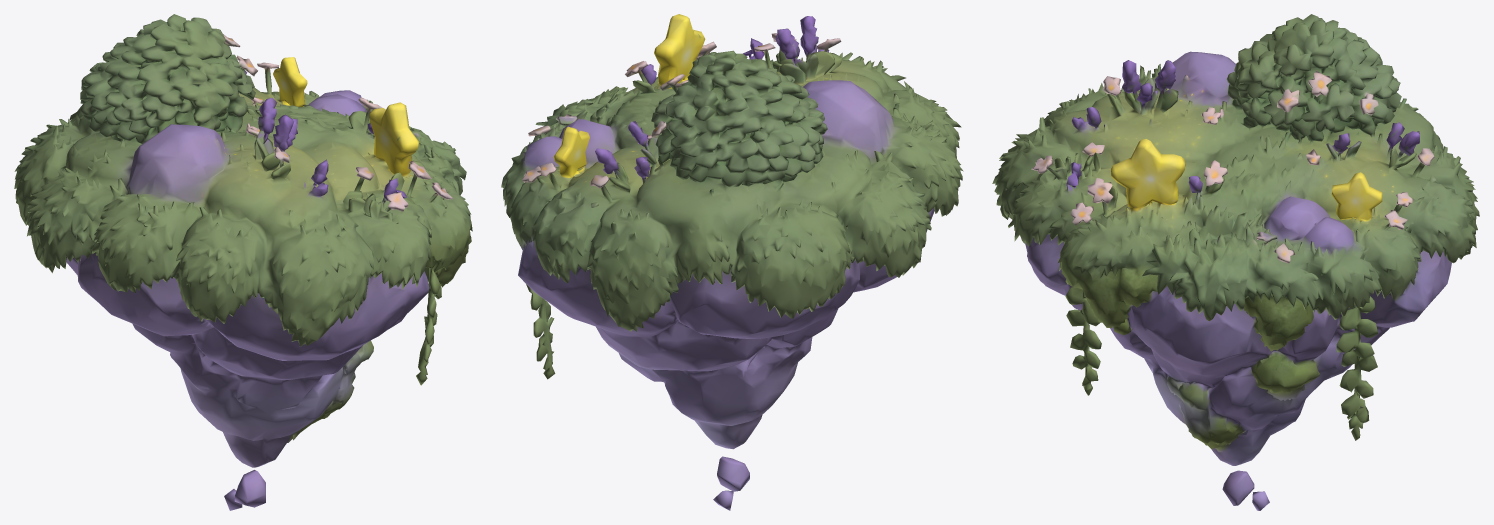
File: island_small.glb
The picture shows the model from 3 angles, left to right: view 1: azimuth 30°, elevation 25°; view 2: azimuth 150°, elevation 25°; view 3: azimuth 270°, elevation 25°; orthographic projection.
Parts seen in each view (by area): view 1: tripo_node_2ed7031f-e71e-4221-8f35-1f00273f3768; view 2: tripo_node_2ed7031f-e71e-4221-8f35-1f00273f3768; view 3: tripo_node_2ed7031f-e71e-4221-8f35-1f00273f3768.
Boxes of the visible parts, x1=… form: tripo_node_2ed7031f-e71e-4221-8f35-1f00273f3768: x1=14, y1=14, x2=472, y2=510; tripo_node_2ed7031f-e71e-4221-8f35-1f00273f3768: x1=501, y1=14, x2=963, y2=510; tripo_node_2ed7031f-e71e-4221-8f35-1f00273f3768: x1=992, y1=14, x2=1479, y2=510.
Size of the model in its own units: 0.8826 by 1 by 0.9315.
1 material, 1 textured.
